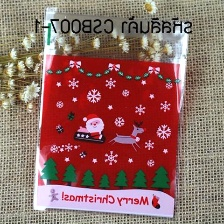snack: (26, 2, 198, 224)
